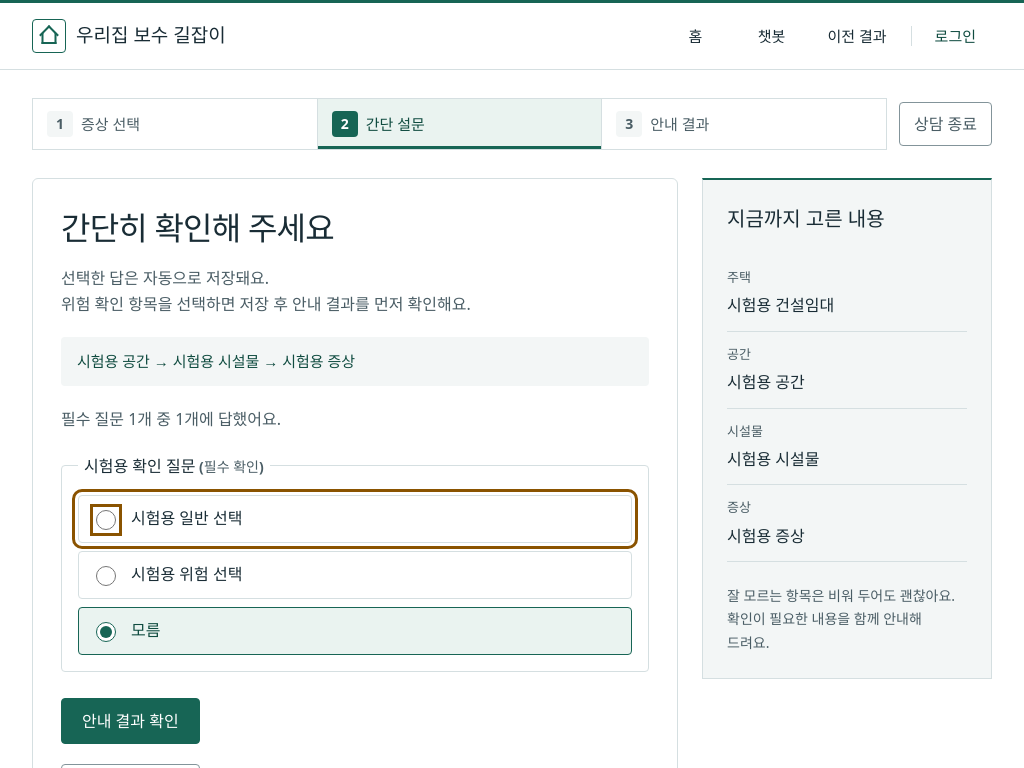
it: does not steal focus when the user moves elsewhere during answer saving
The width and height of the screenshot is (1024, 768).
Click the radio button labelled "시험용 일반 선택": (106, 520) left=96, top=510, right=116, bottom=530
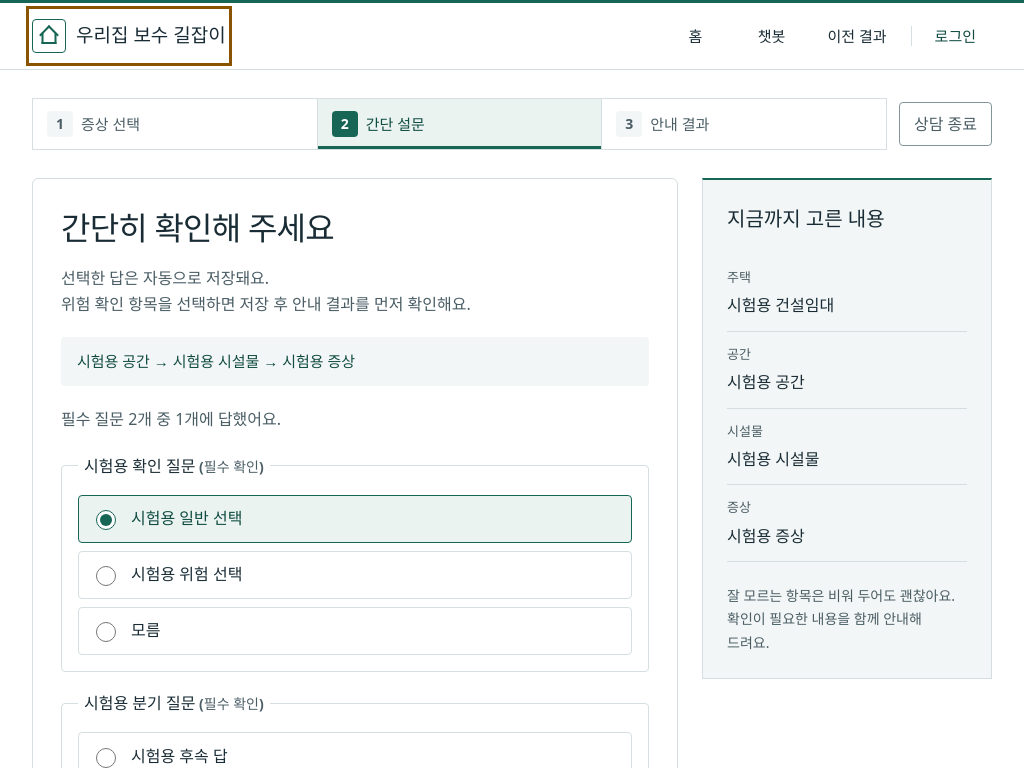
Result: the radio button labelled "시험용 일반 선택" is checked at left=96, top=510, right=116, bottom=530
